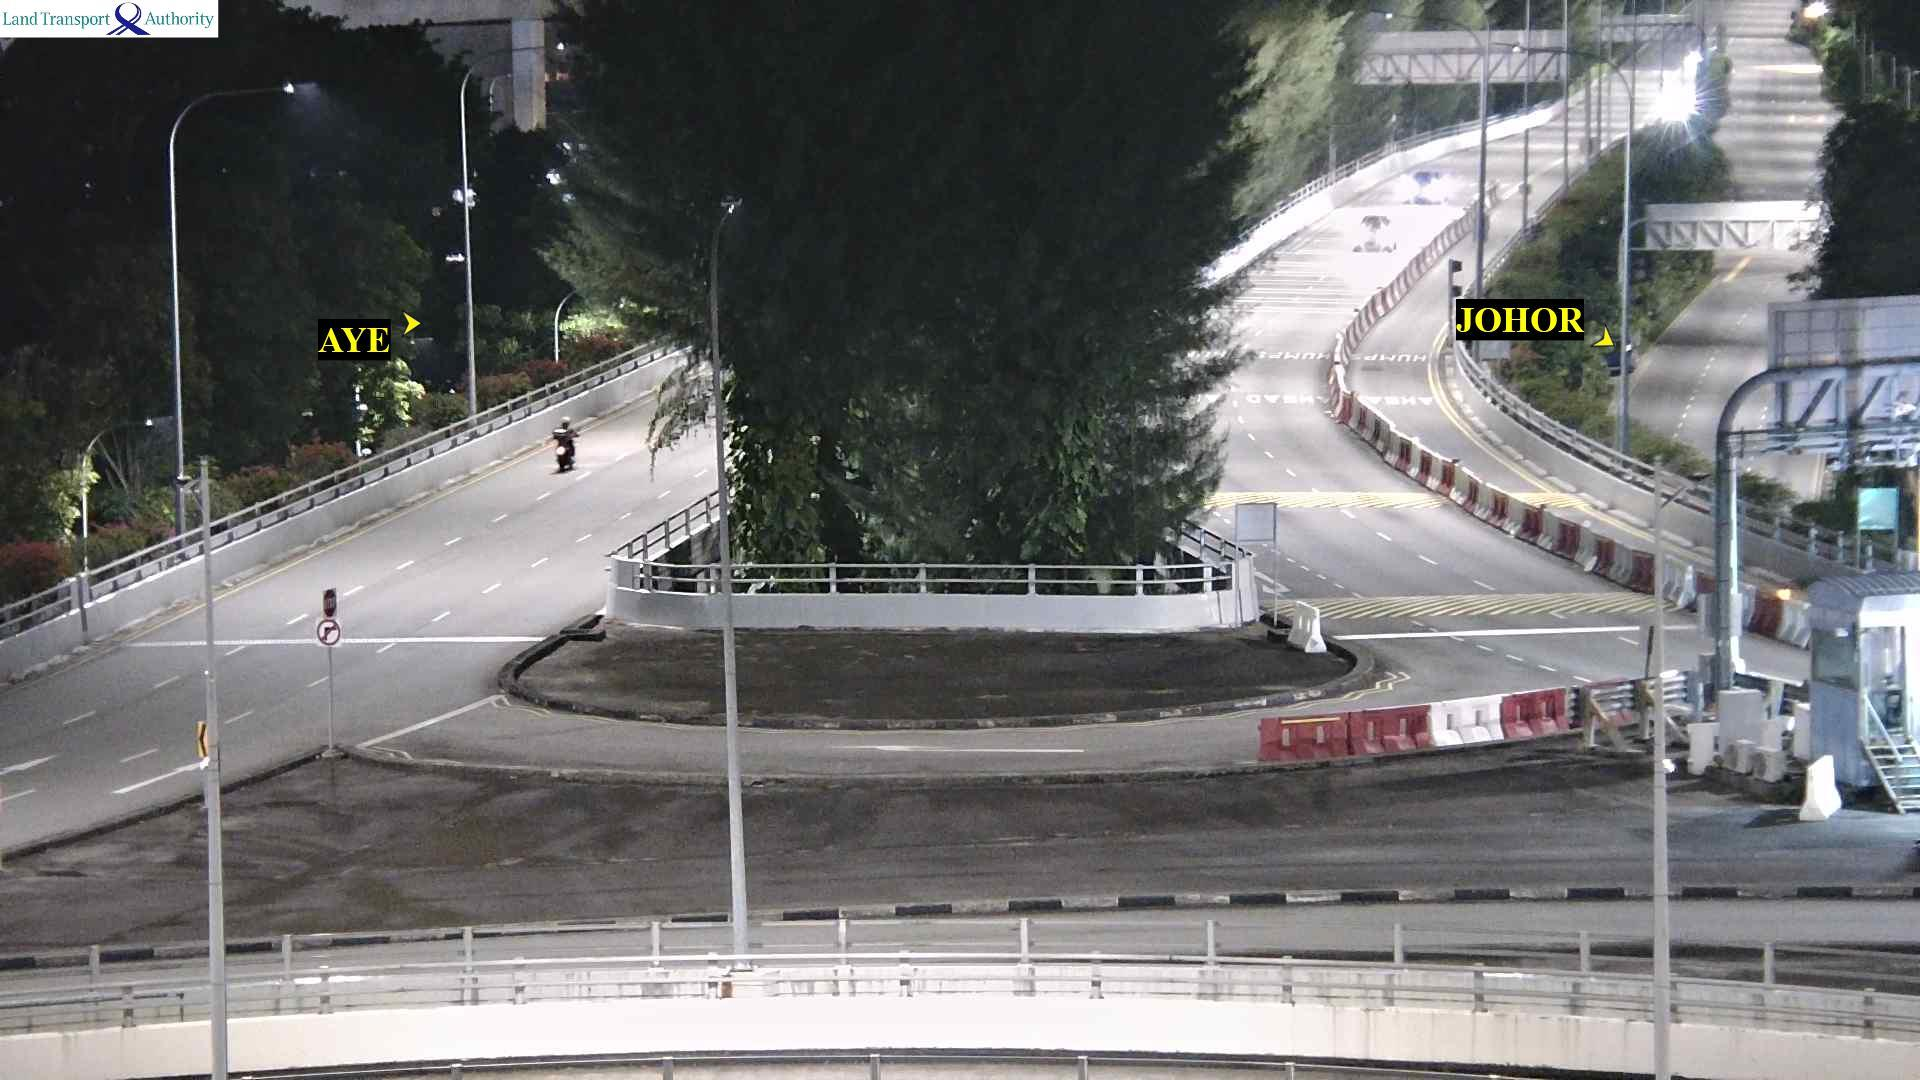vehicle-secondlink-johor: (1399, 167, 1449, 206), (1354, 214, 1396, 257)
vehicle-secondlink-singapore: (549, 417, 576, 480)
